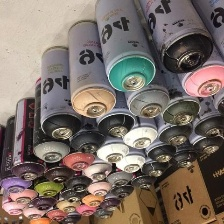aerosol_cans: (158, 0, 224, 109), (88, 0, 158, 96), (136, 0, 216, 76), (111, 24, 171, 123), (65, 18, 118, 120), (149, 38, 204, 129), (34, 43, 84, 143), (88, 49, 140, 141), (173, 58, 224, 144), (7, 92, 50, 183), (29, 74, 71, 167), (149, 63, 194, 148), (114, 74, 162, 152), (175, 83, 222, 156), (132, 98, 173, 179), (133, 97, 180, 166), (67, 77, 107, 157), (159, 96, 201, 171), (0, 110, 34, 196), (92, 97, 134, 166), (40, 110, 77, 187), (58, 104, 98, 174), (0, 137, 32, 218), (79, 129, 115, 198), (6, 131, 39, 206), (111, 111, 149, 174), (104, 133, 137, 202), (33, 132, 66, 200), (59, 127, 93, 193), (128, 125, 161, 193), (79, 120, 115, 181), (100, 125, 134, 189), (28, 153, 61, 214), (97, 146, 124, 215), (59, 140, 87, 206), (77, 146, 106, 209), (19, 169, 52, 223), (43, 170, 71, 223), (57, 164, 80, 216), (75, 172, 100, 219)
